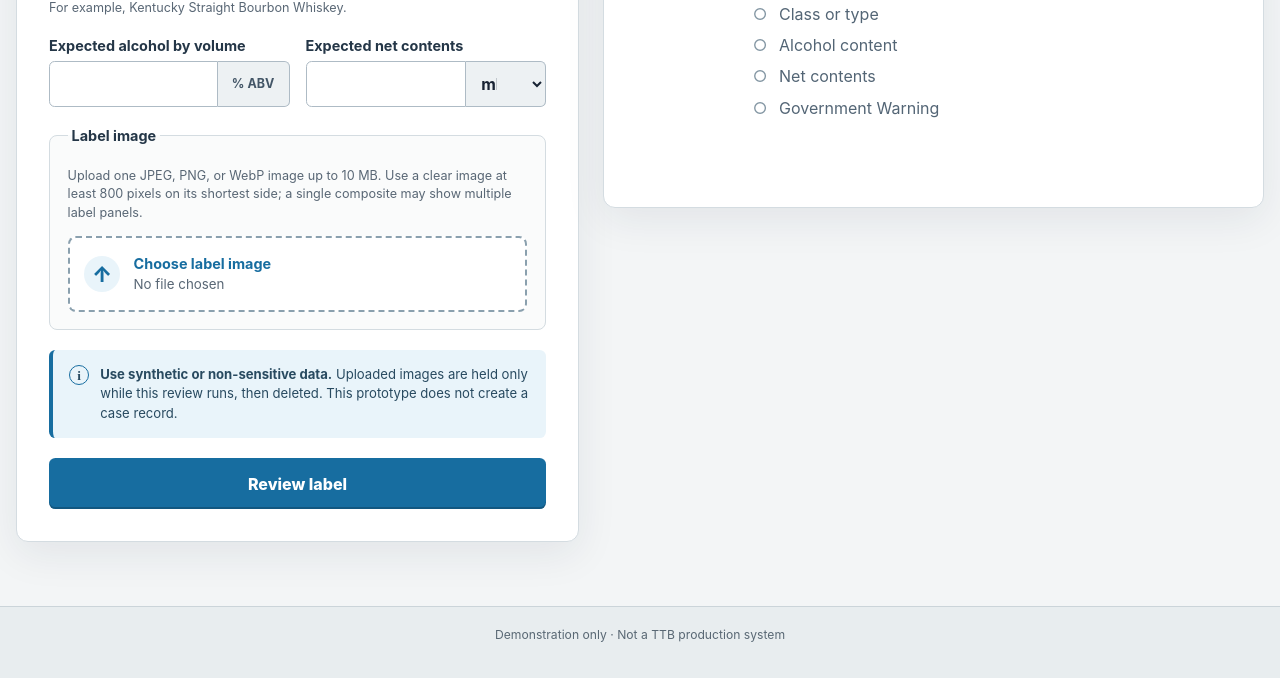
Scenario: App › validates required values before making a request
(page scrolled)
Click the button "Review label": (298, 484) [49,458,546,509]
(page scrolled)
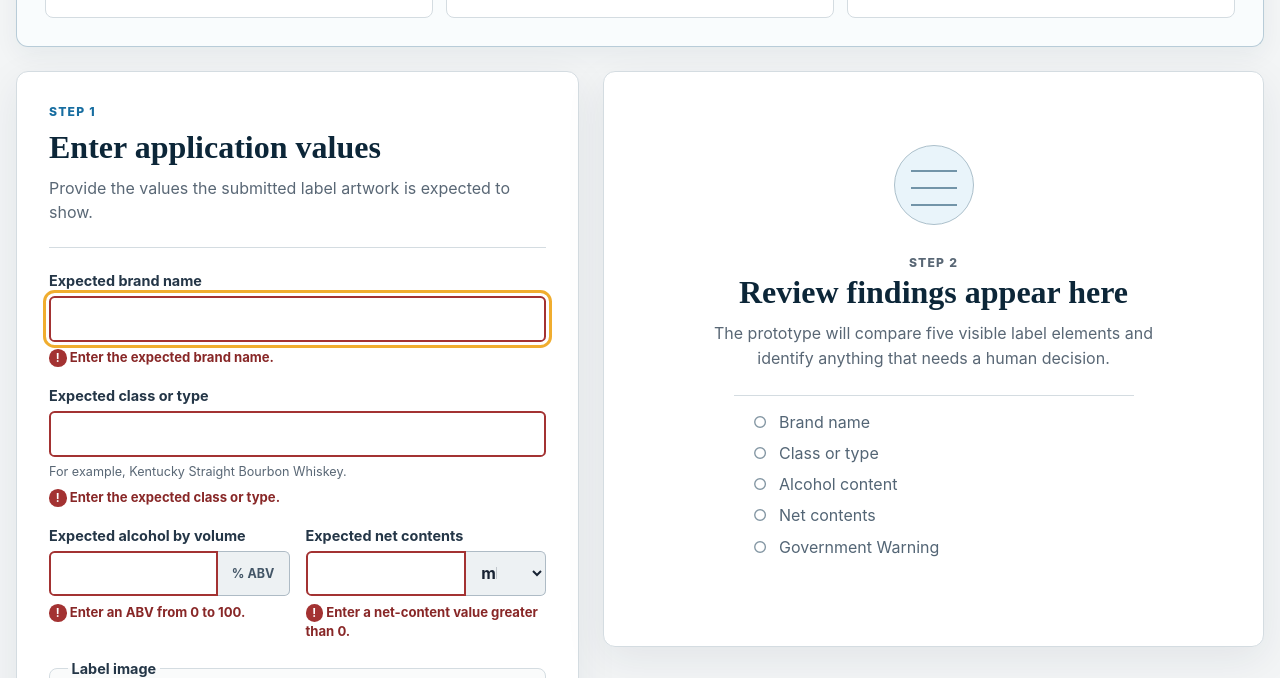
Check: the text "Enter the expected brand name." is shown, box [70,349,274,365]
Check: the text "Enter the expected class or type." is shown, box [70,489,280,505]
Check: the text "Enter an ABV from 0 to 100." is shown, box [70,604,245,620]
